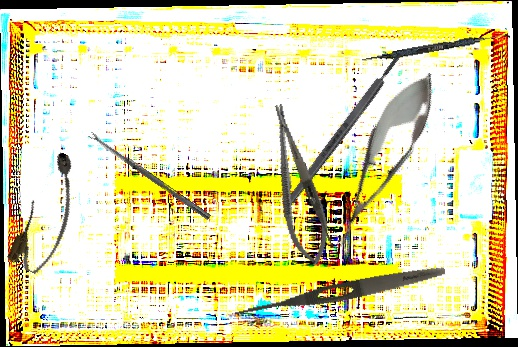Cannula: (5, 148, 93, 279)
Dressing Forceps: (233, 260, 447, 325), (284, 136, 338, 248)
Micro Scissor: (318, 61, 450, 258)
Needle Holder: (259, 99, 337, 270)
Scalpel Handle: (281, 50, 406, 210)
Spatula Surgical: (361, 28, 511, 67)
Surgical Spoon: (88, 130, 212, 221)
